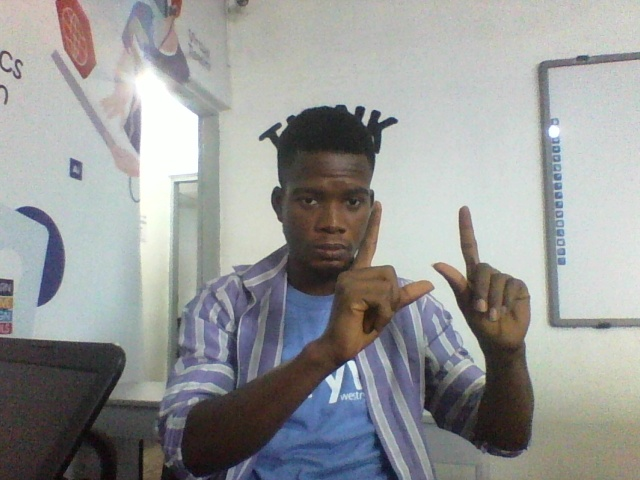nice_to_meet_you: (324, 200, 547, 372)
